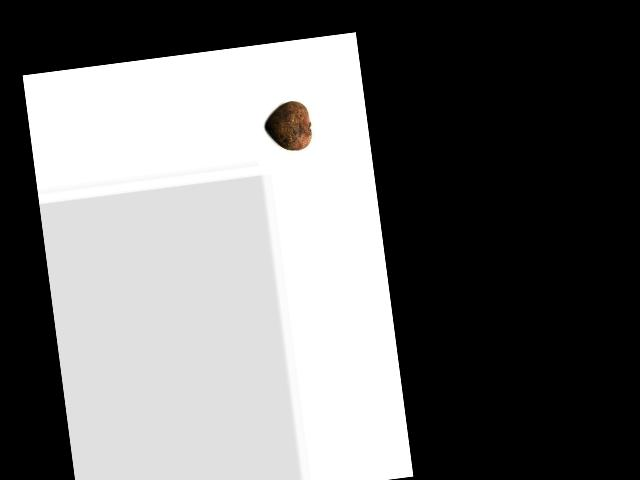beet: (262, 99, 313, 154)
